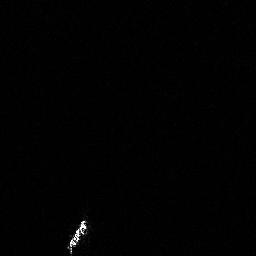ship: (63, 217, 92, 254)
